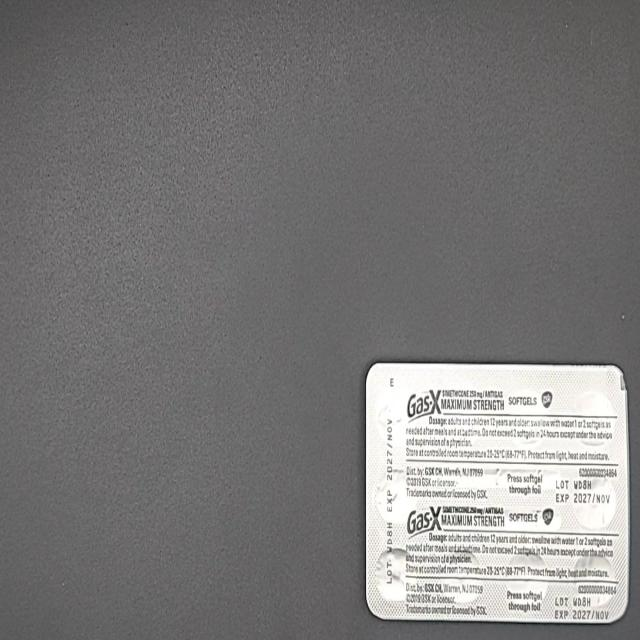no defect: (8, 14, 35, 60)
